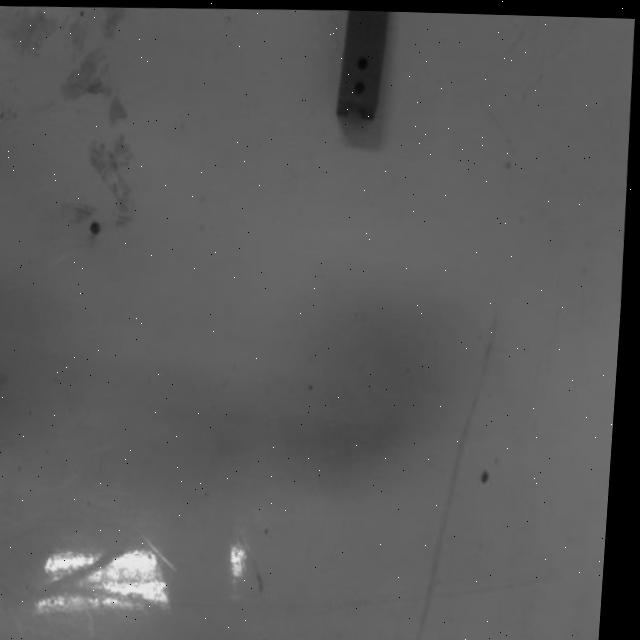grey: (330, 10, 393, 124)
